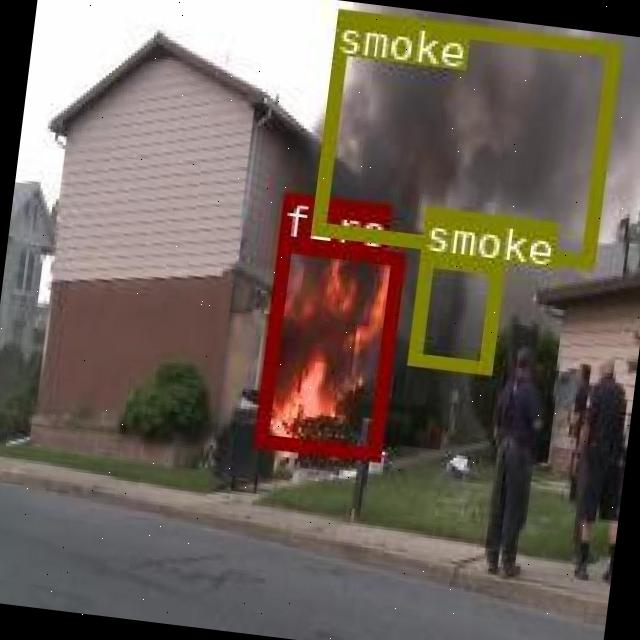fire: (254, 236, 402, 458)
smoke: (310, 6, 620, 267), (406, 250, 502, 370)
